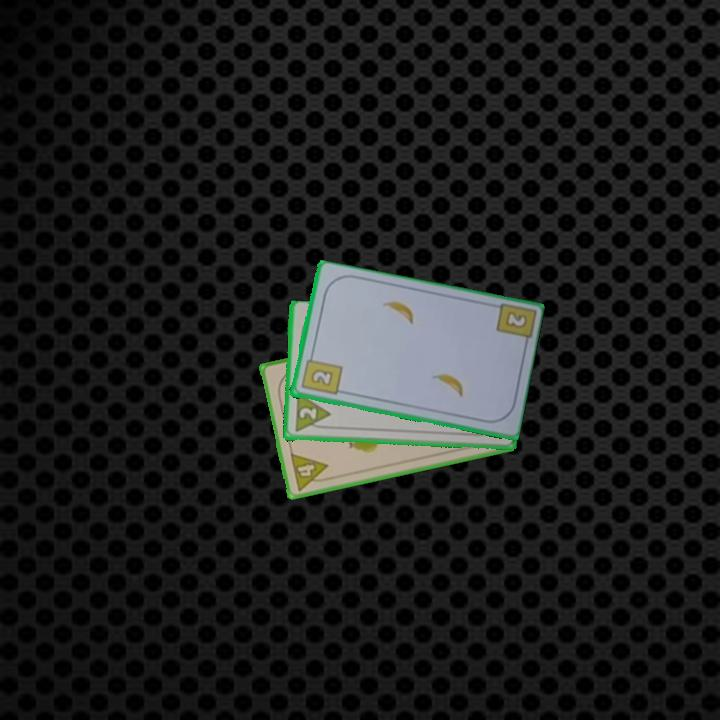2b: (298, 350, 344, 398), (501, 308, 530, 331)
2p: (296, 404, 320, 422)
4p: (287, 449, 333, 493)
